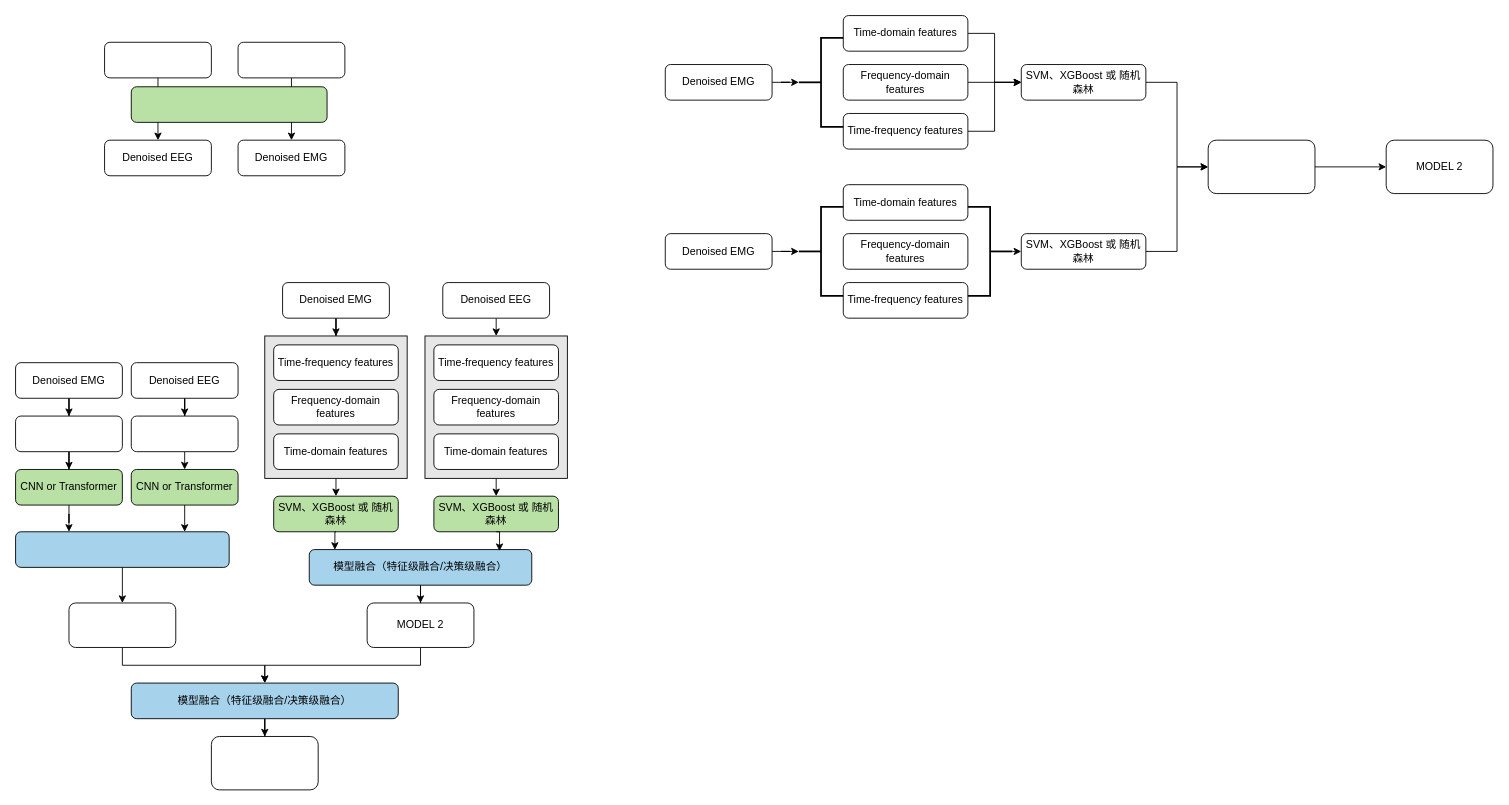
Image size: 1509x805. Some labels were removed from this diagram. Each missing label, with the box of its shape:
EEG: (104, 41, 211, 78)
EEG spectrogram: (130, 415, 238, 452)
EMG: (237, 41, 345, 78)
EMG spectrogram: (15, 415, 122, 452)
MLP 全连接分类层: (15, 531, 229, 567)
MODEL: (210, 736, 318, 790)
MODEL 1: (68, 602, 176, 647)
Preprocessing: (130, 86, 327, 122)
模型融合: (1207, 139, 1315, 194)
